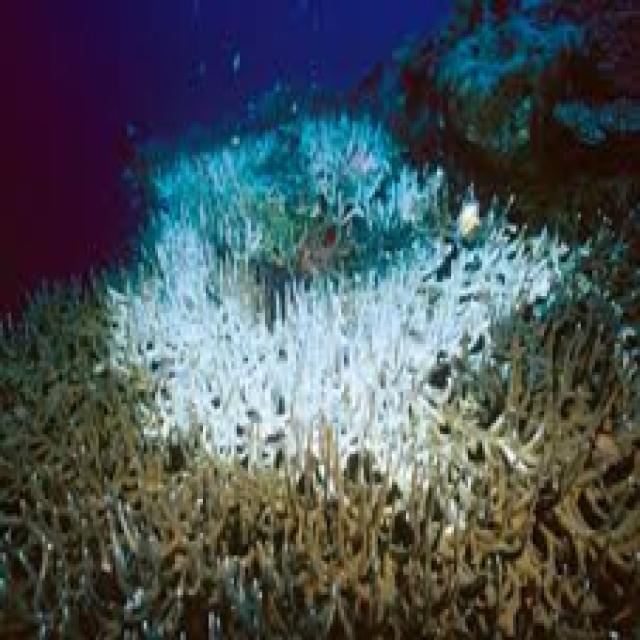Bleached: (220, 301, 438, 461), (152, 212, 244, 444), (357, 225, 568, 320), (300, 114, 443, 225), (147, 129, 284, 227), (374, 404, 477, 497), (407, 290, 502, 364), (110, 267, 175, 372)
Healthy: (143, 449, 554, 640), (460, 318, 640, 640), (1, 272, 115, 640), (89, 367, 161, 639), (261, 226, 416, 283)
